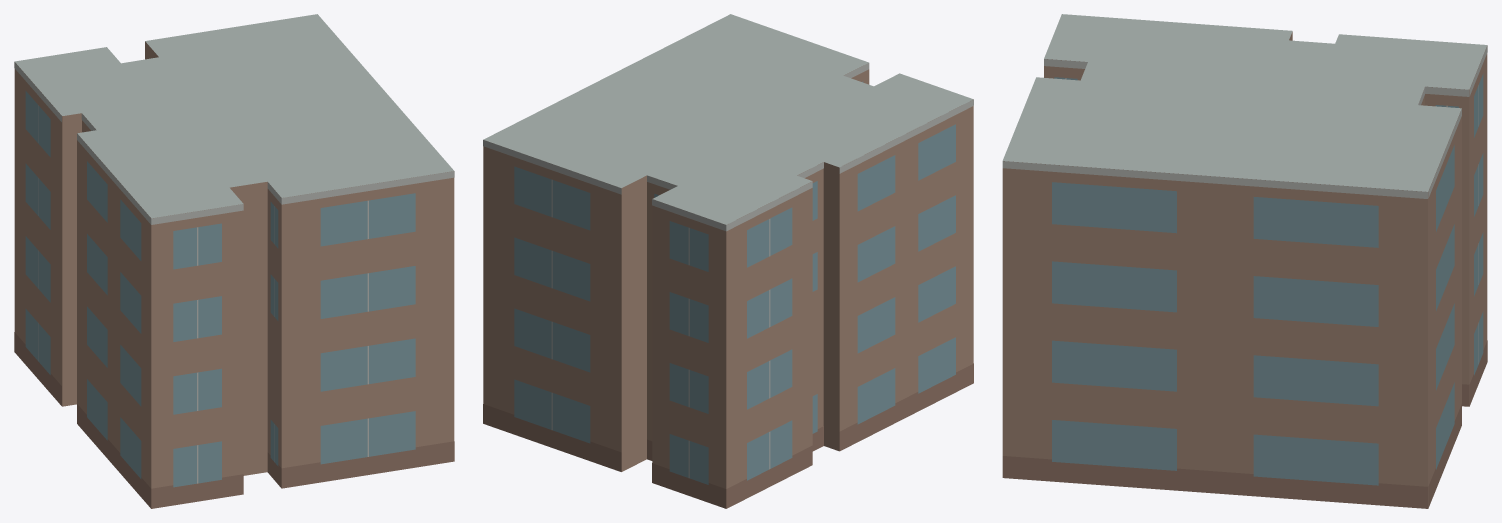
The model's file is survey-upis-32690093.glb.
3 renders of one model, left to right at view 1: azimuth 30°, elevation 25°; view 2: azimuth 150°, elevation 25°; view 3: azimuth 270°, elevation 25°, orthographic. The views are drawn at different scales.
Parts seen in each view (by area): view 1: survey-upis-32690093.tmp; view 2: survey-upis-32690093.tmp; view 3: survey-upis-32690093.tmp.
Part boxes in pixels (x1=…): survey-upis-32690093.tmp: x1=14, y1=14, x2=454, y2=508; survey-upis-32690093.tmp: x1=483, y1=14, x2=973, y2=508; survey-upis-32690093.tmp: x1=1002, y1=14, x2=1487, y2=508.
Size of the model in its own units: 12.89 by 10.7 by 14.85.
